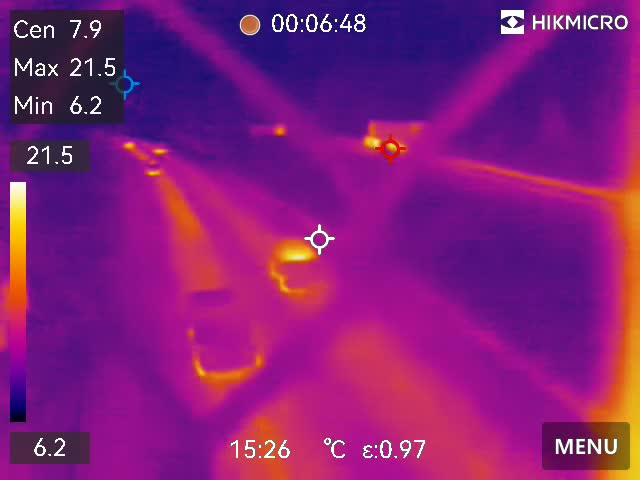heavyTruck: (364, 109, 436, 151)
